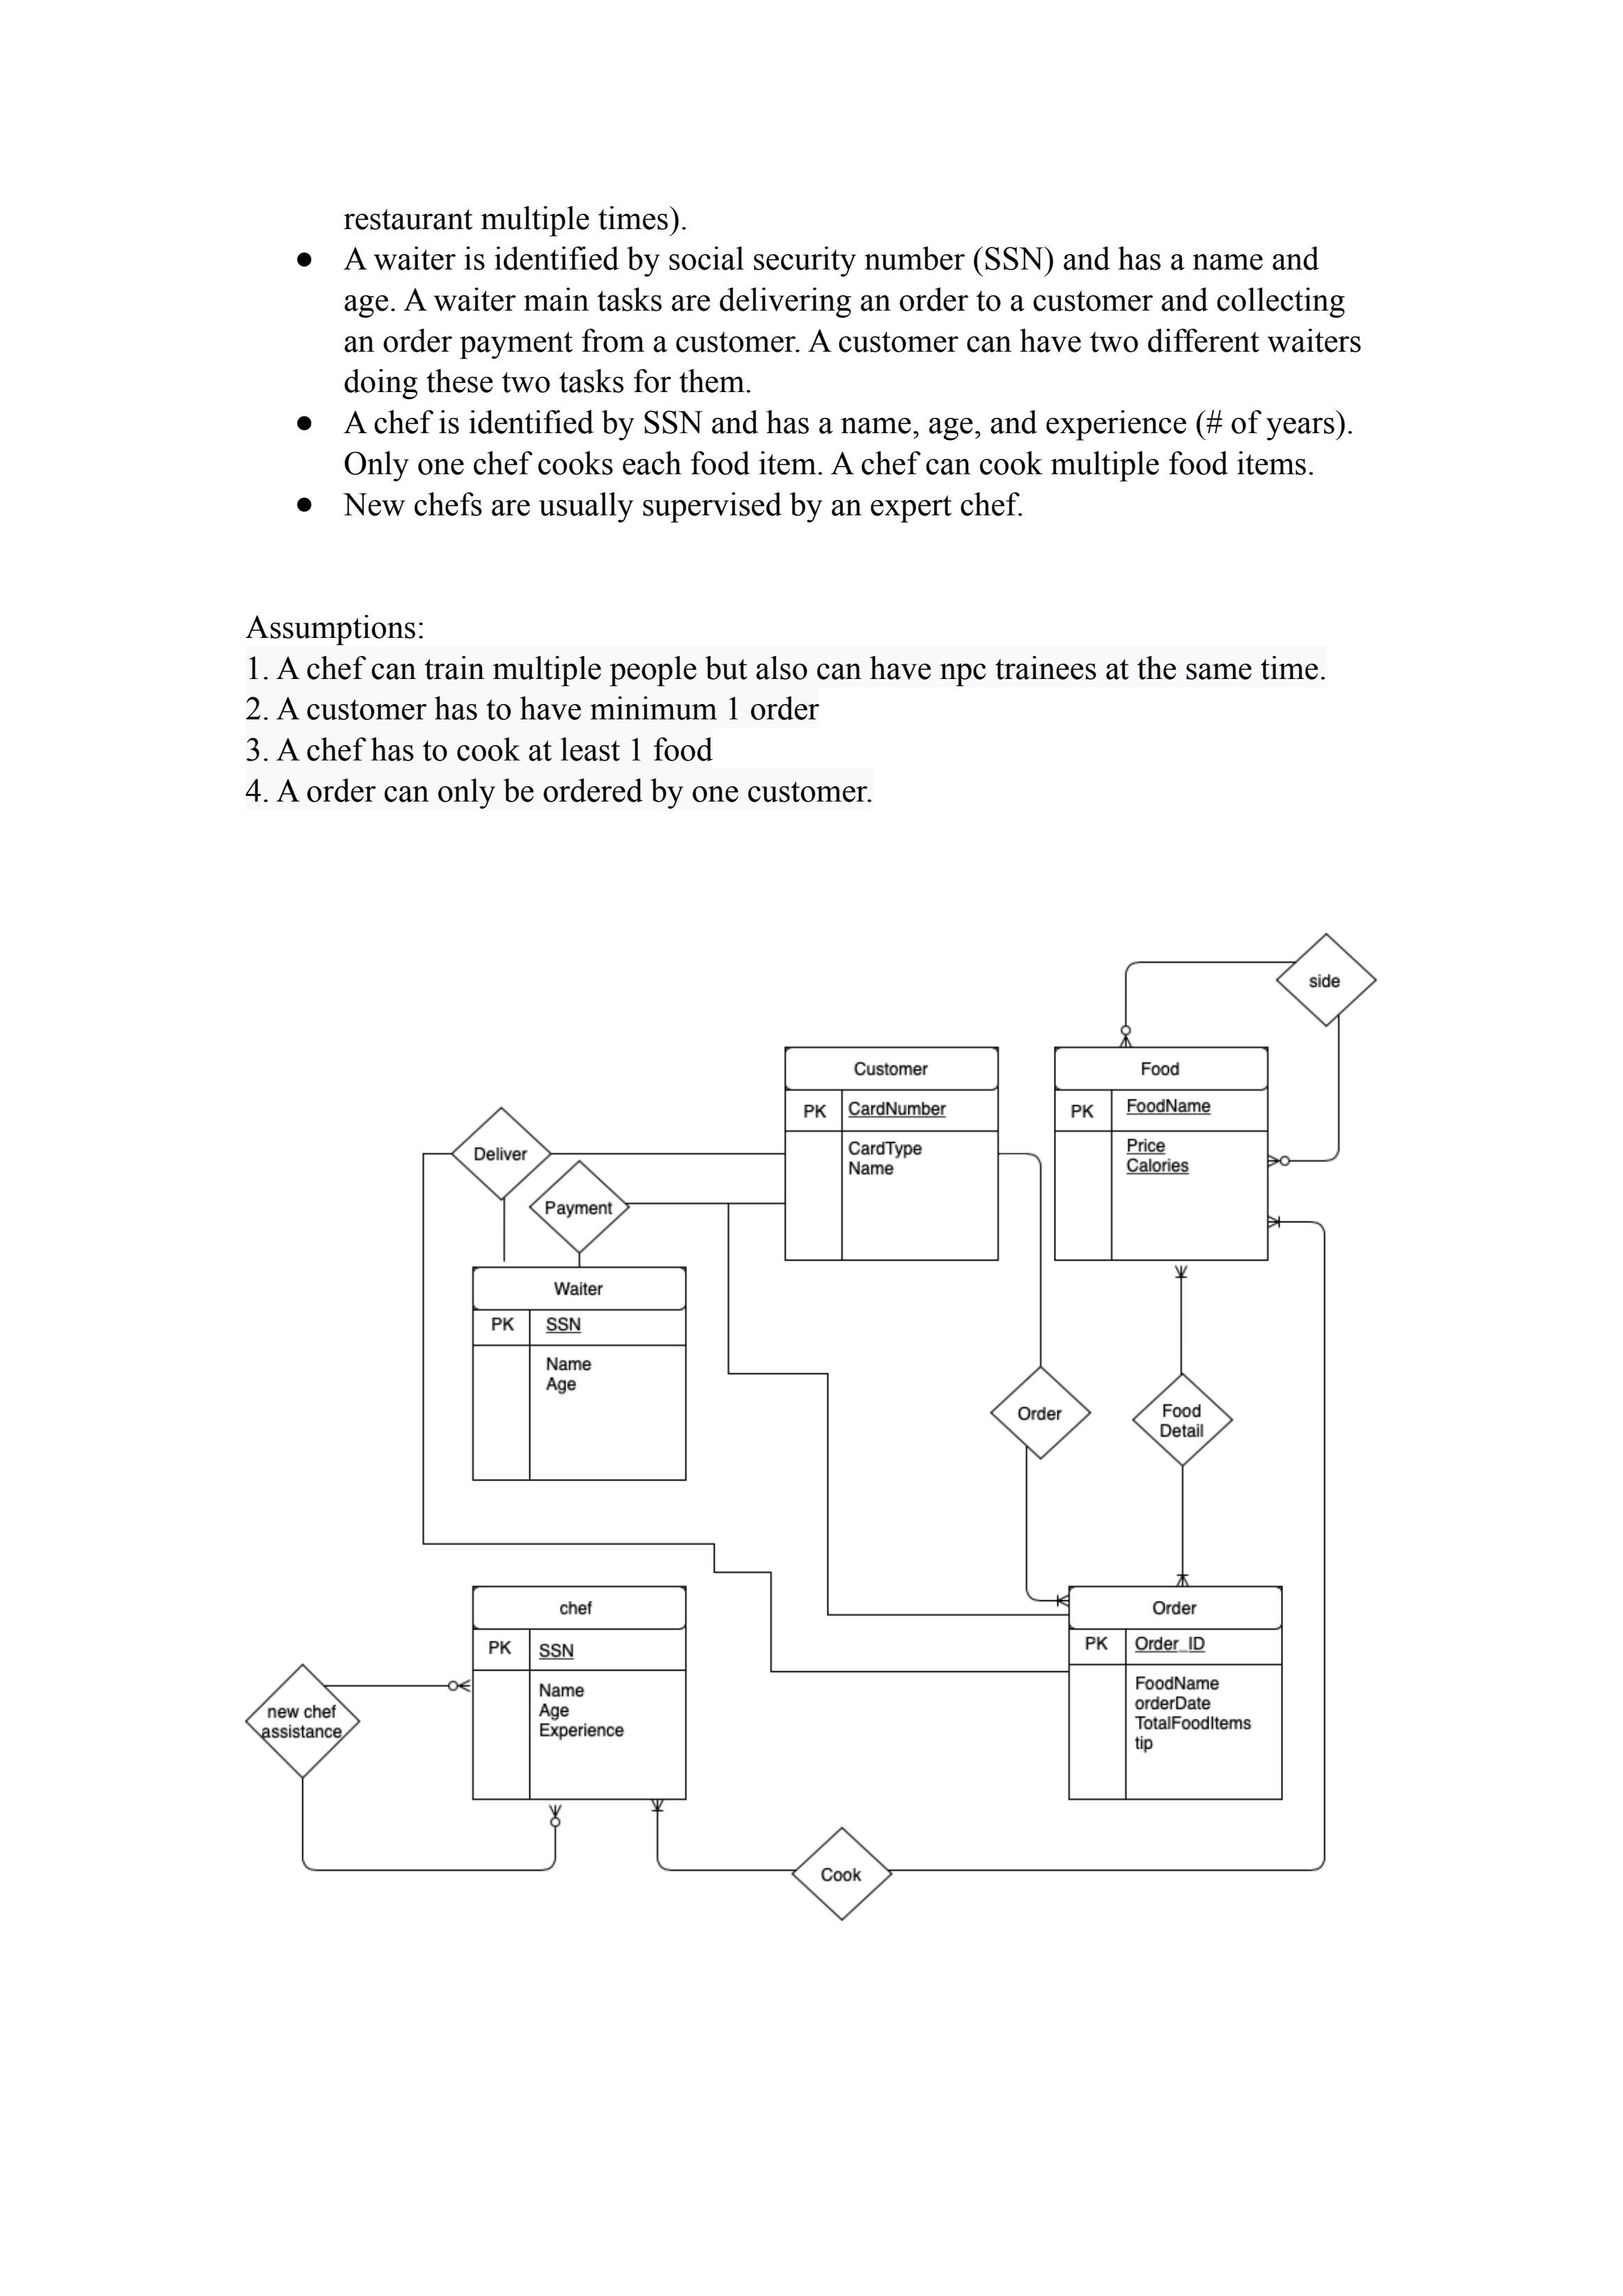Entity: (471, 1266, 687, 1482), (783, 1046, 999, 1262), (471, 1585, 687, 1801), (1054, 1046, 1268, 1262), (1068, 1585, 1282, 1801)
Relationship: (244, 1662, 362, 1778), (790, 1826, 892, 1922), (529, 1159, 632, 1253), (451, 1106, 552, 1202), (1275, 932, 1377, 1027), (989, 1366, 1091, 1460), (1131, 1373, 1235, 1466)
